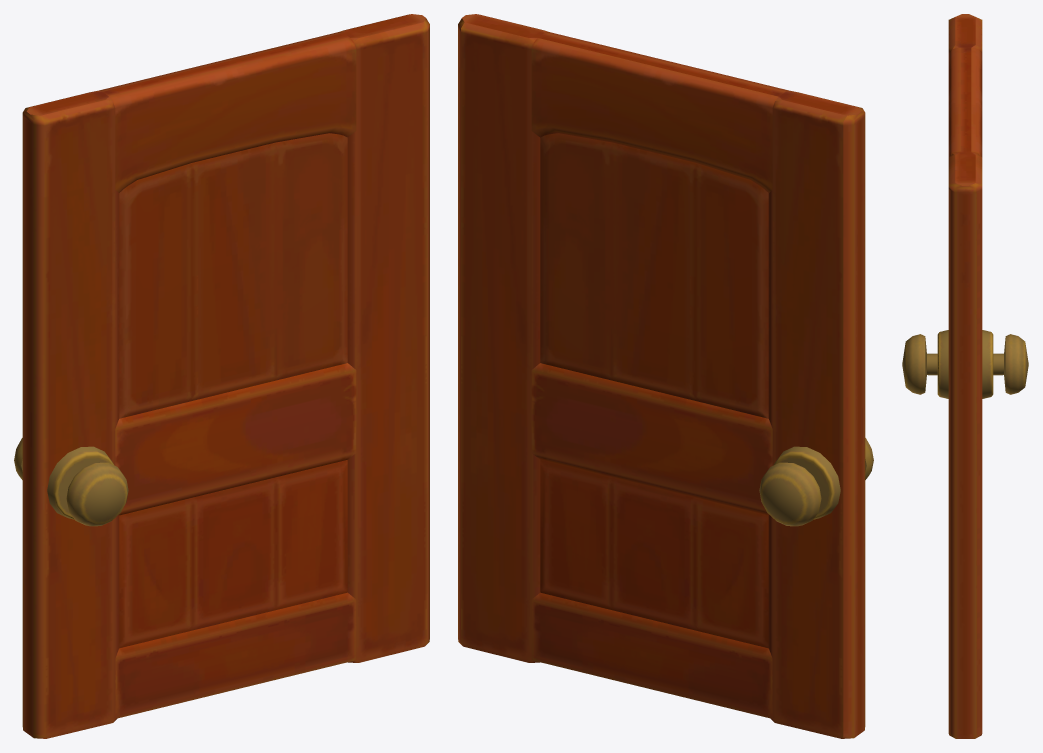
The model's file is door.glb.
3 renders of one model, left to right at view 1: azimuth 30°, elevation 25°; view 2: azimuth 150°, elevation 25°; view 3: azimuth 270°, elevation 25°, orthographic. The views are drawn at different scales.
Visible parts, largest first — view 1: pCylinder1_1__mDoorS; view 2: pCylinder1_1__mDoorS; view 3: pCylinder1_1__mDoorS.
Boxes of the visible parts, left/top/right/bottom form: pCylinder1_1__mDoorS: left=14, top=14, right=429, bottom=738; pCylinder1_1__mDoorS: left=458, top=14, right=873, bottom=738; pCylinder1_1__mDoorS: left=902, top=14, right=1028, bottom=738.
Size of the model in its own units: 12 by 18 by 3.74.
1 material, 1 textured.
